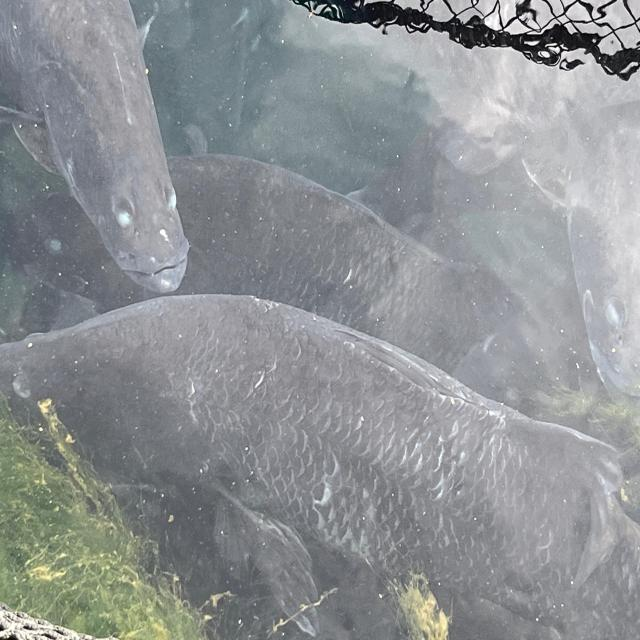ikan: (9, 9, 210, 288)
